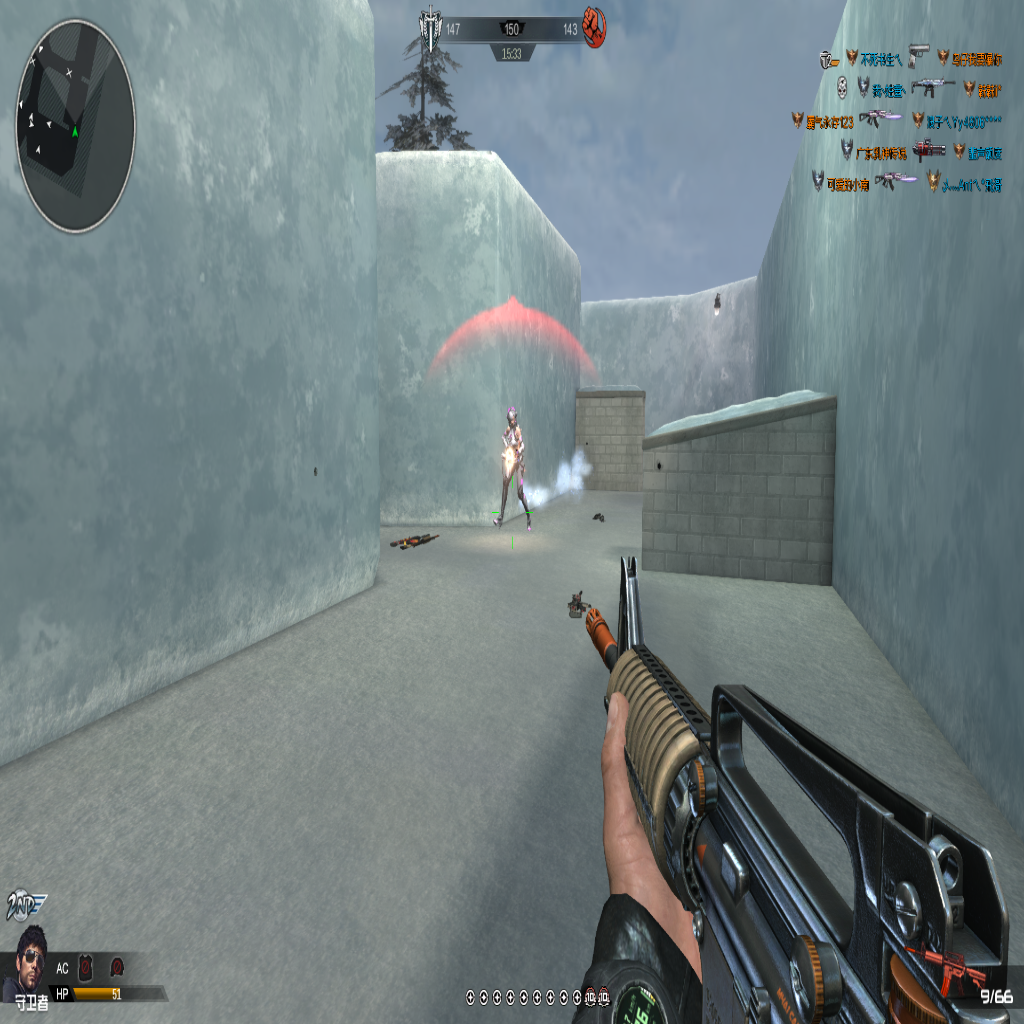tt: (497, 404, 533, 527)
